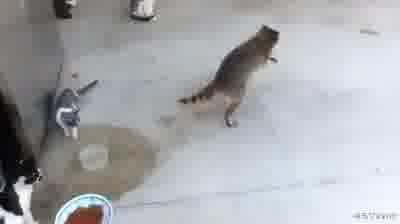raccoon: (173, 24, 280, 130)
